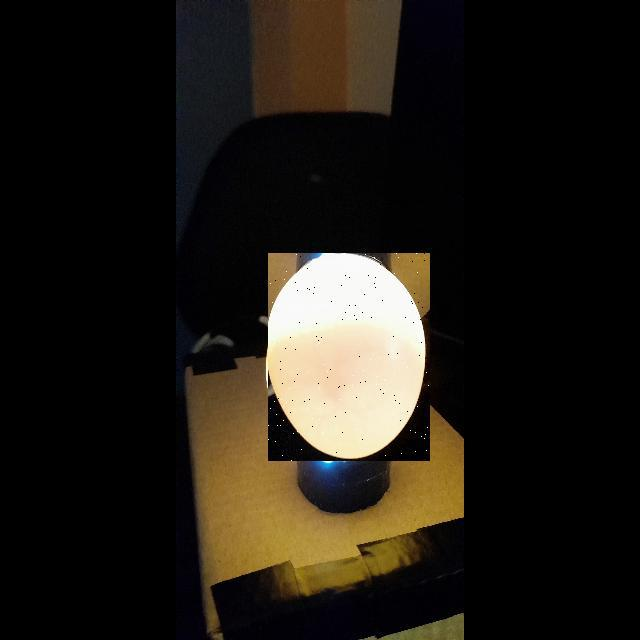Fertile: (268, 253, 430, 461)
